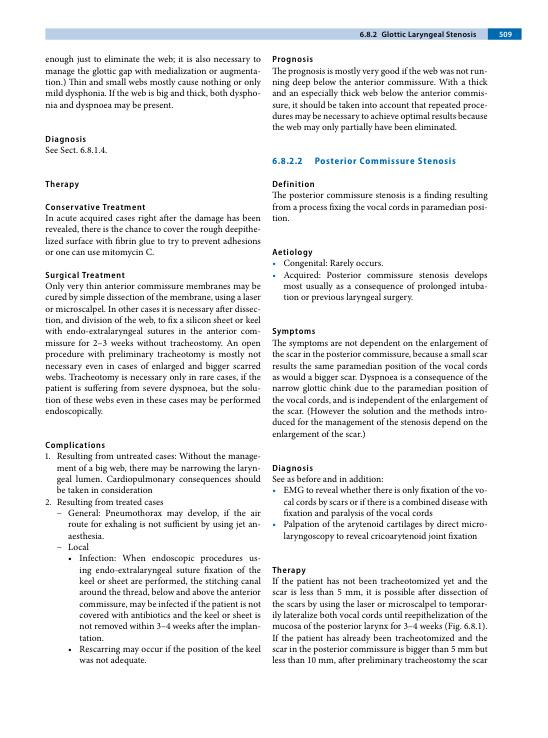header: (381, 29, 477, 40)
list: (44, 452, 262, 667), (272, 485, 488, 544), (272, 258, 488, 304)
sub-section-heading: (314, 156, 457, 165), (44, 202, 146, 211), (44, 271, 126, 281), (44, 440, 106, 451), (271, 54, 314, 65), (44, 134, 87, 145), (271, 247, 313, 258), (271, 327, 316, 337), (44, 179, 80, 191), (272, 464, 314, 474), (271, 565, 307, 576), (271, 179, 315, 188)
text: (44, 281, 262, 418), (271, 338, 489, 442), (271, 576, 490, 667), (271, 65, 488, 134), (44, 54, 263, 112), (44, 213, 262, 258), (271, 189, 489, 222), (271, 474, 384, 484), (45, 145, 108, 155)
